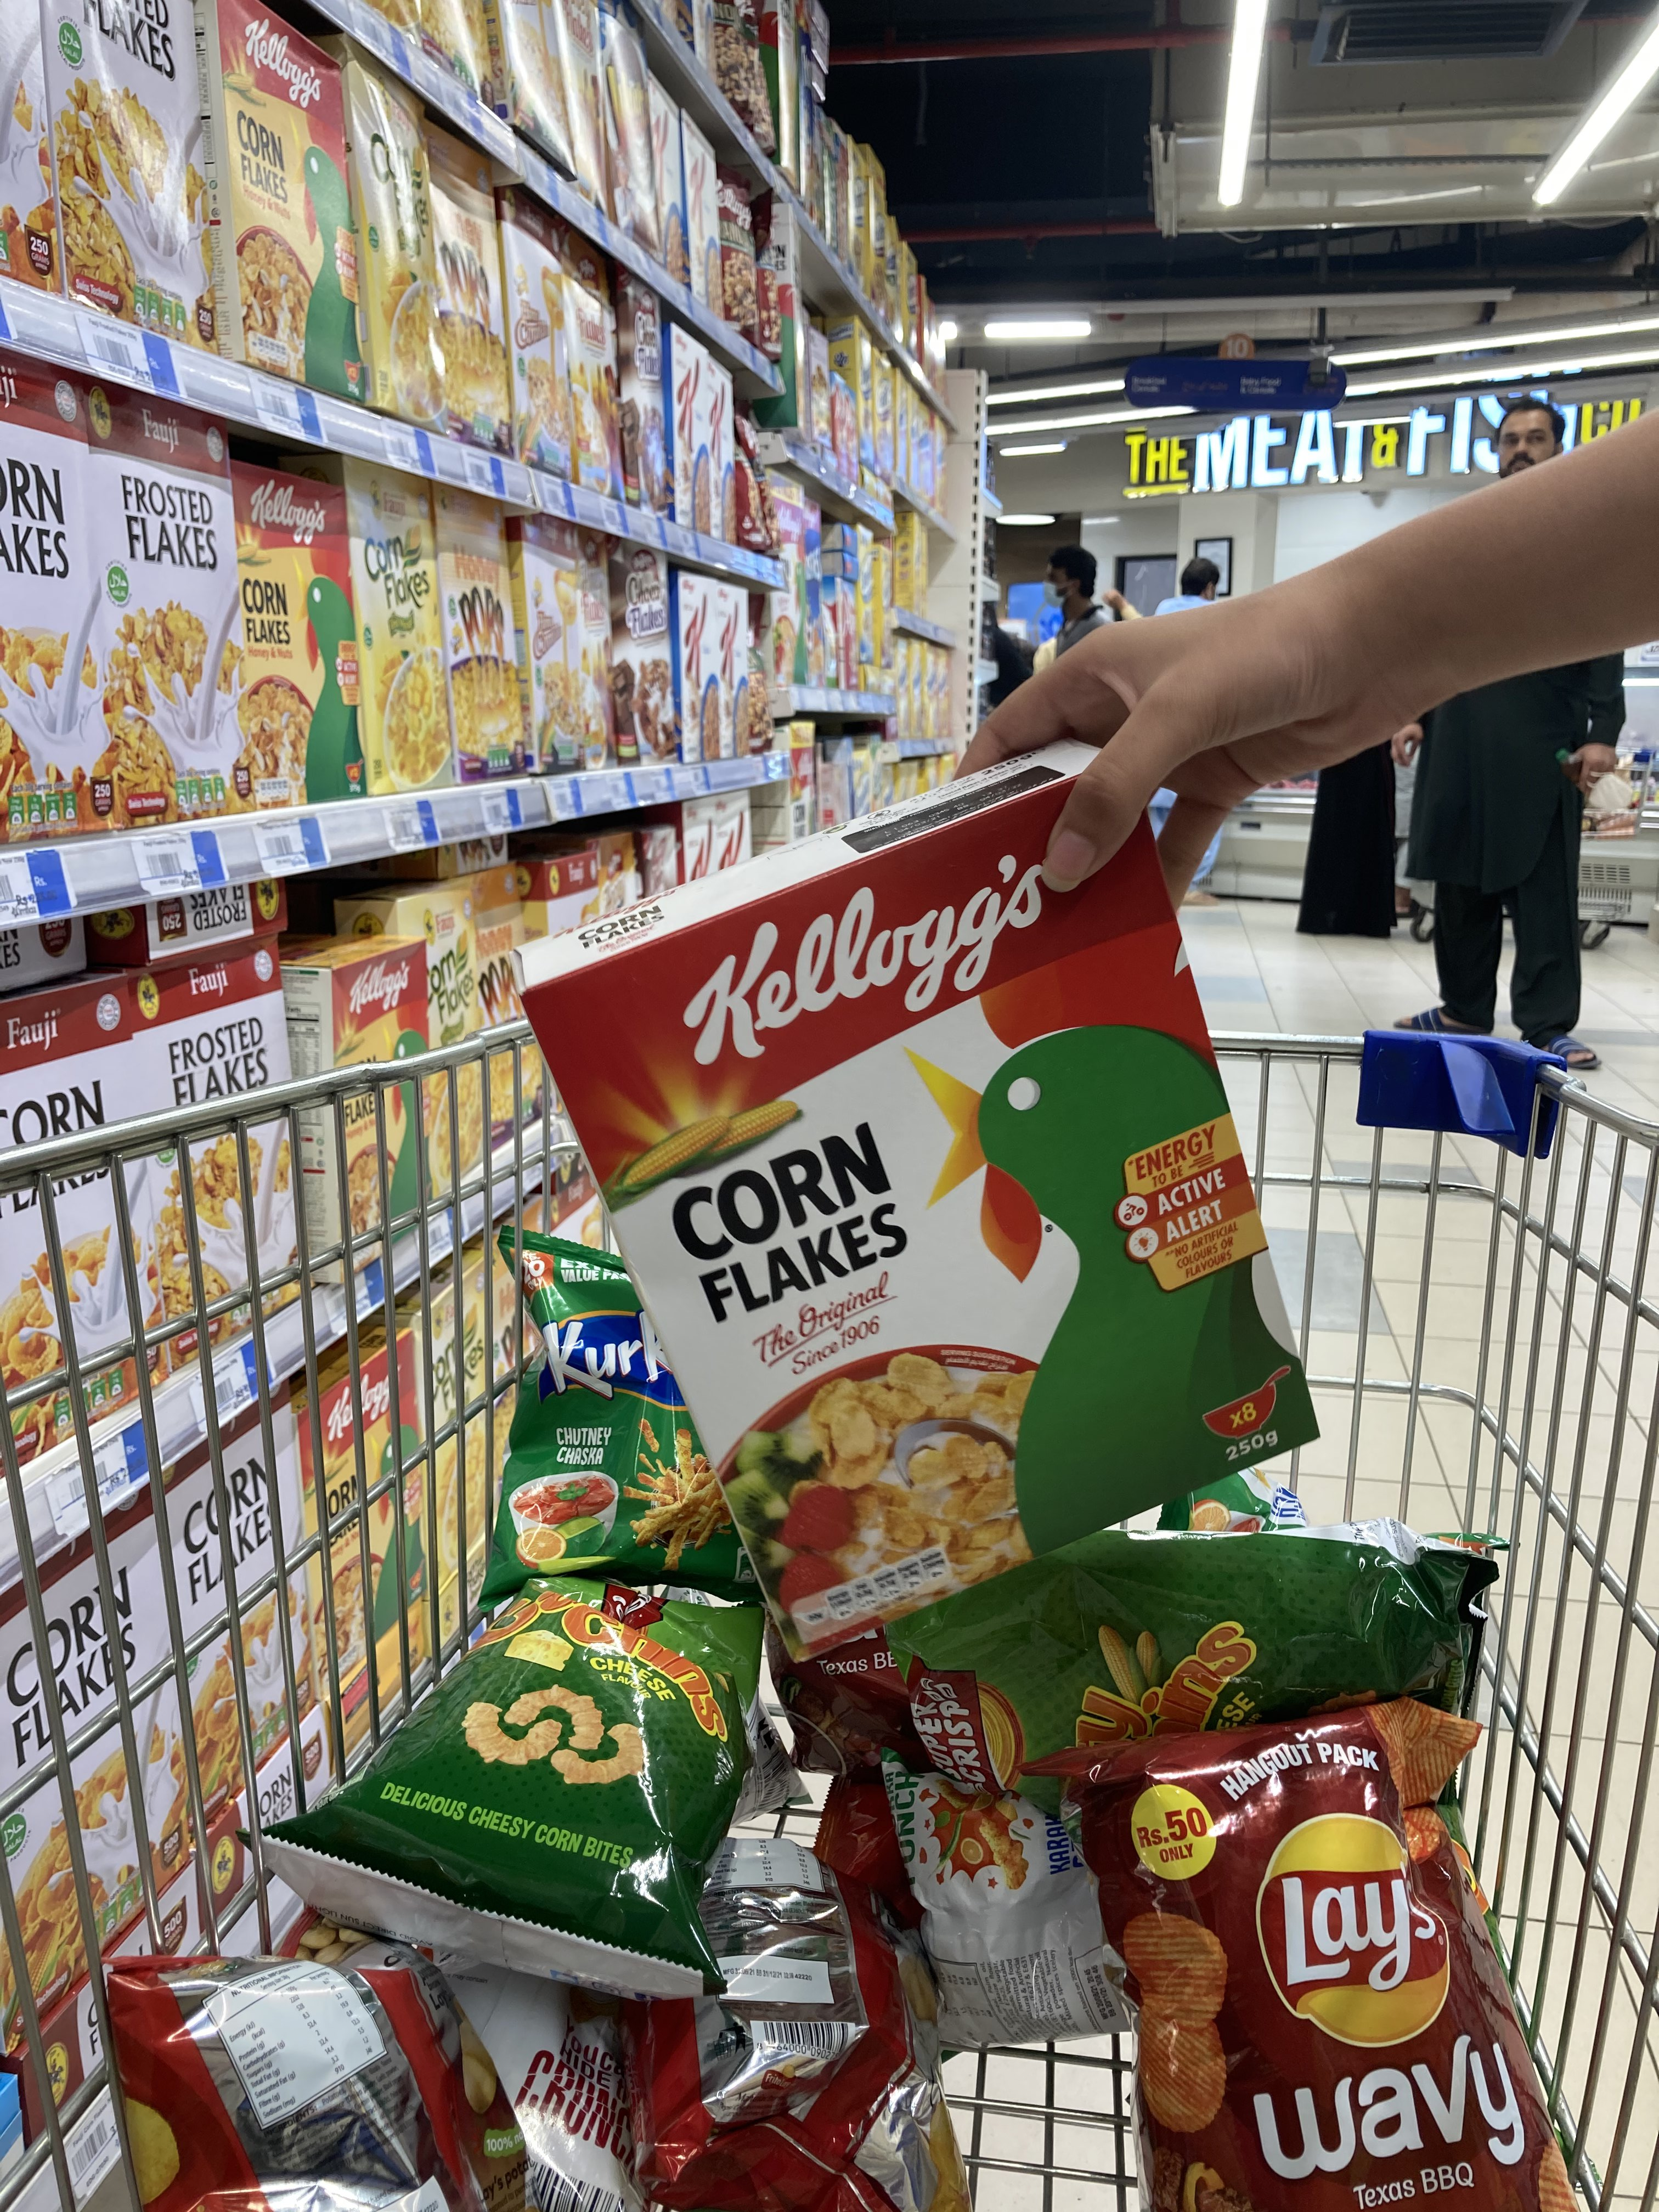Kellogg's Corn Flakes: (498, 759, 1342, 1669)
